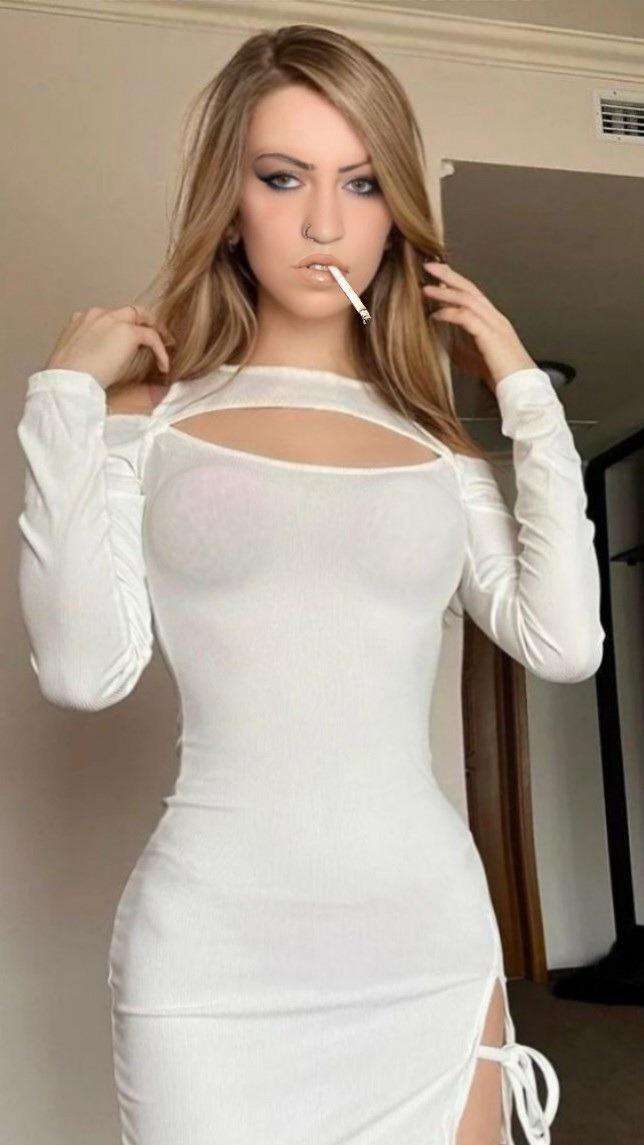cigarette: (329, 266, 371, 323)
